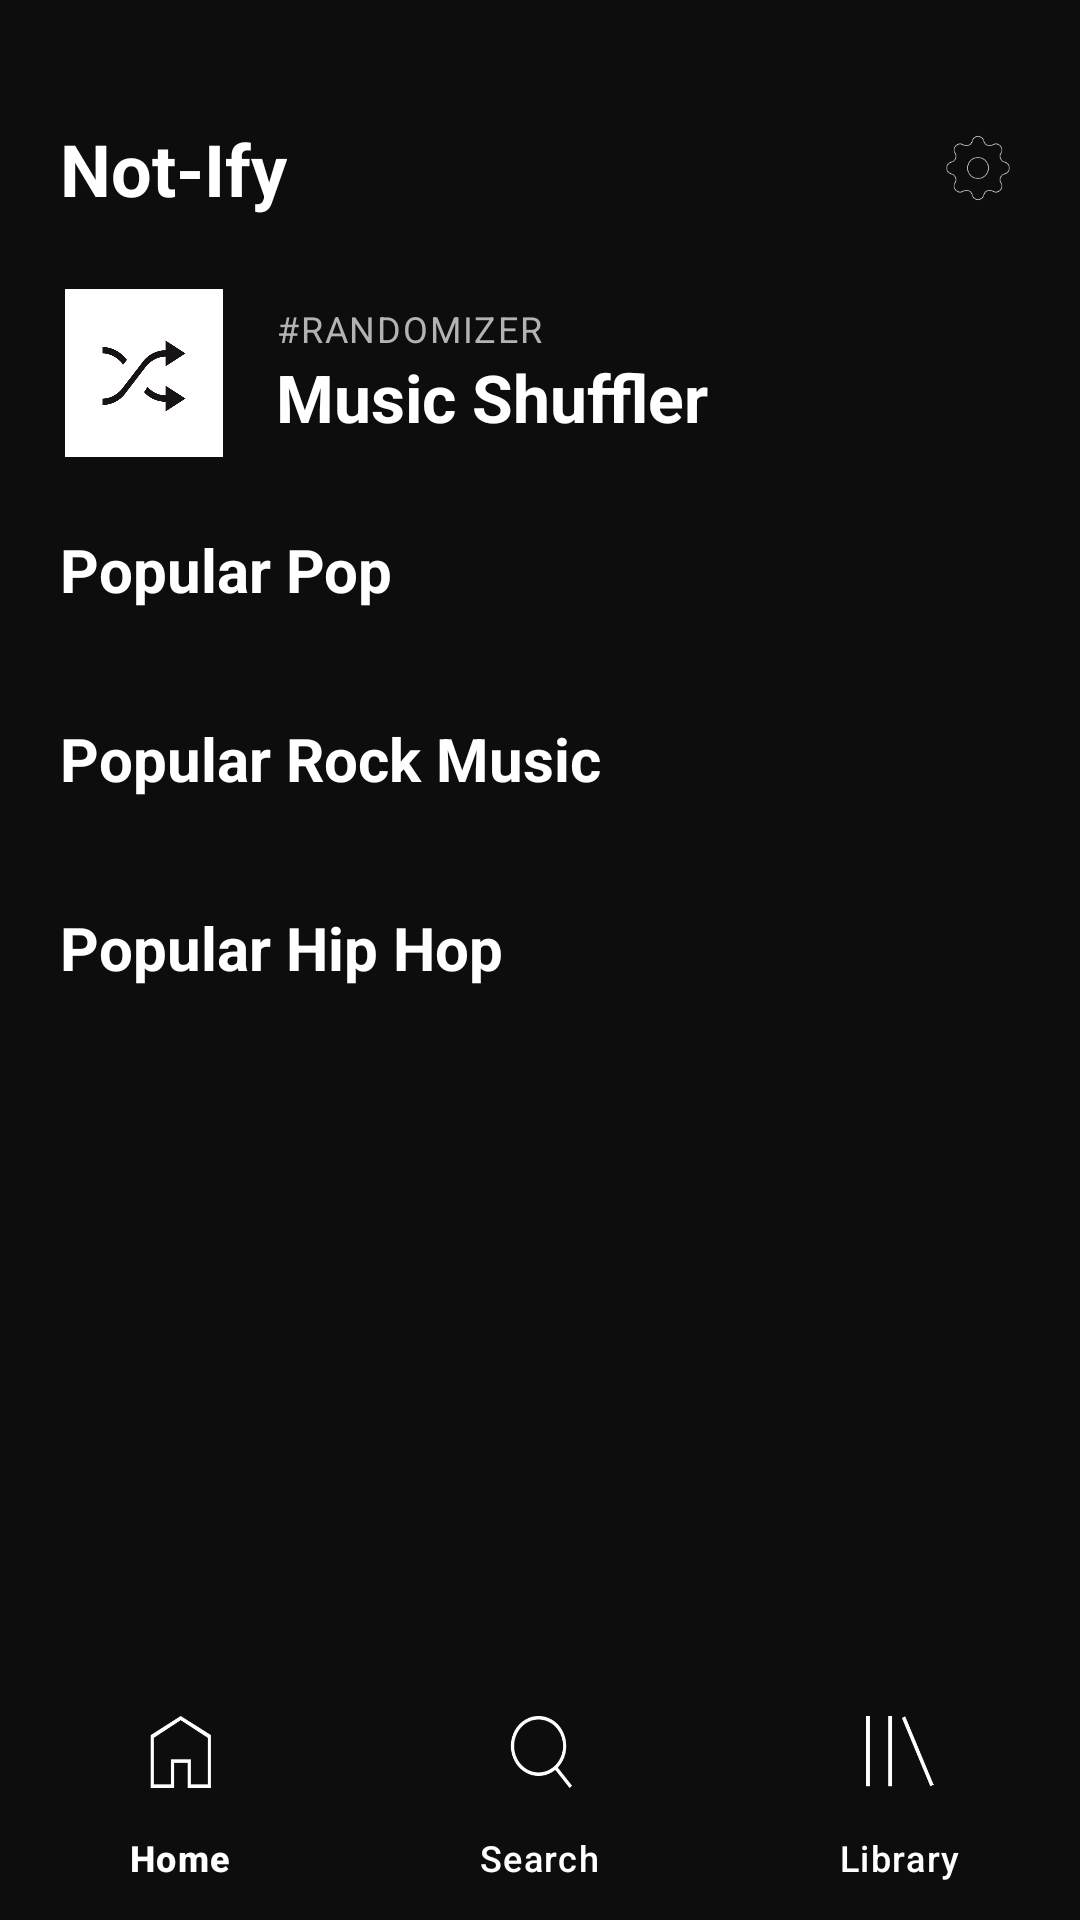

Icons on this 1080px x 1920px Android screen, each with its box as (x1, y1, x2, y2):
settings: (946, 136, 1010, 200)
